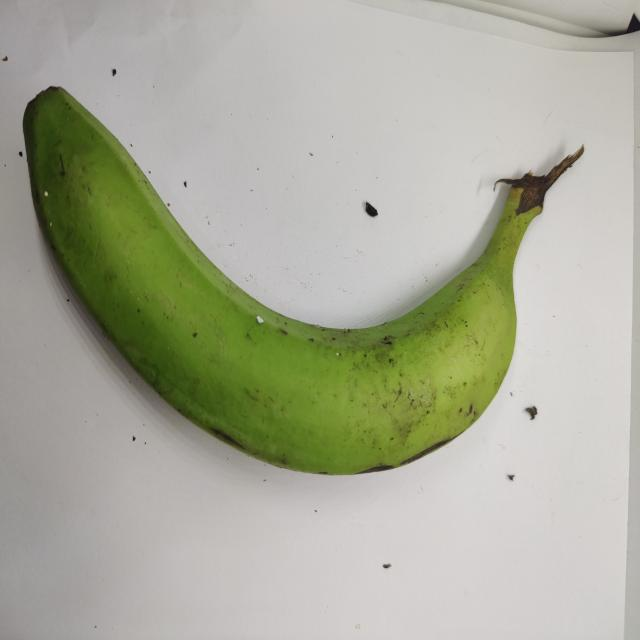Raw: (13, 49, 590, 496)
